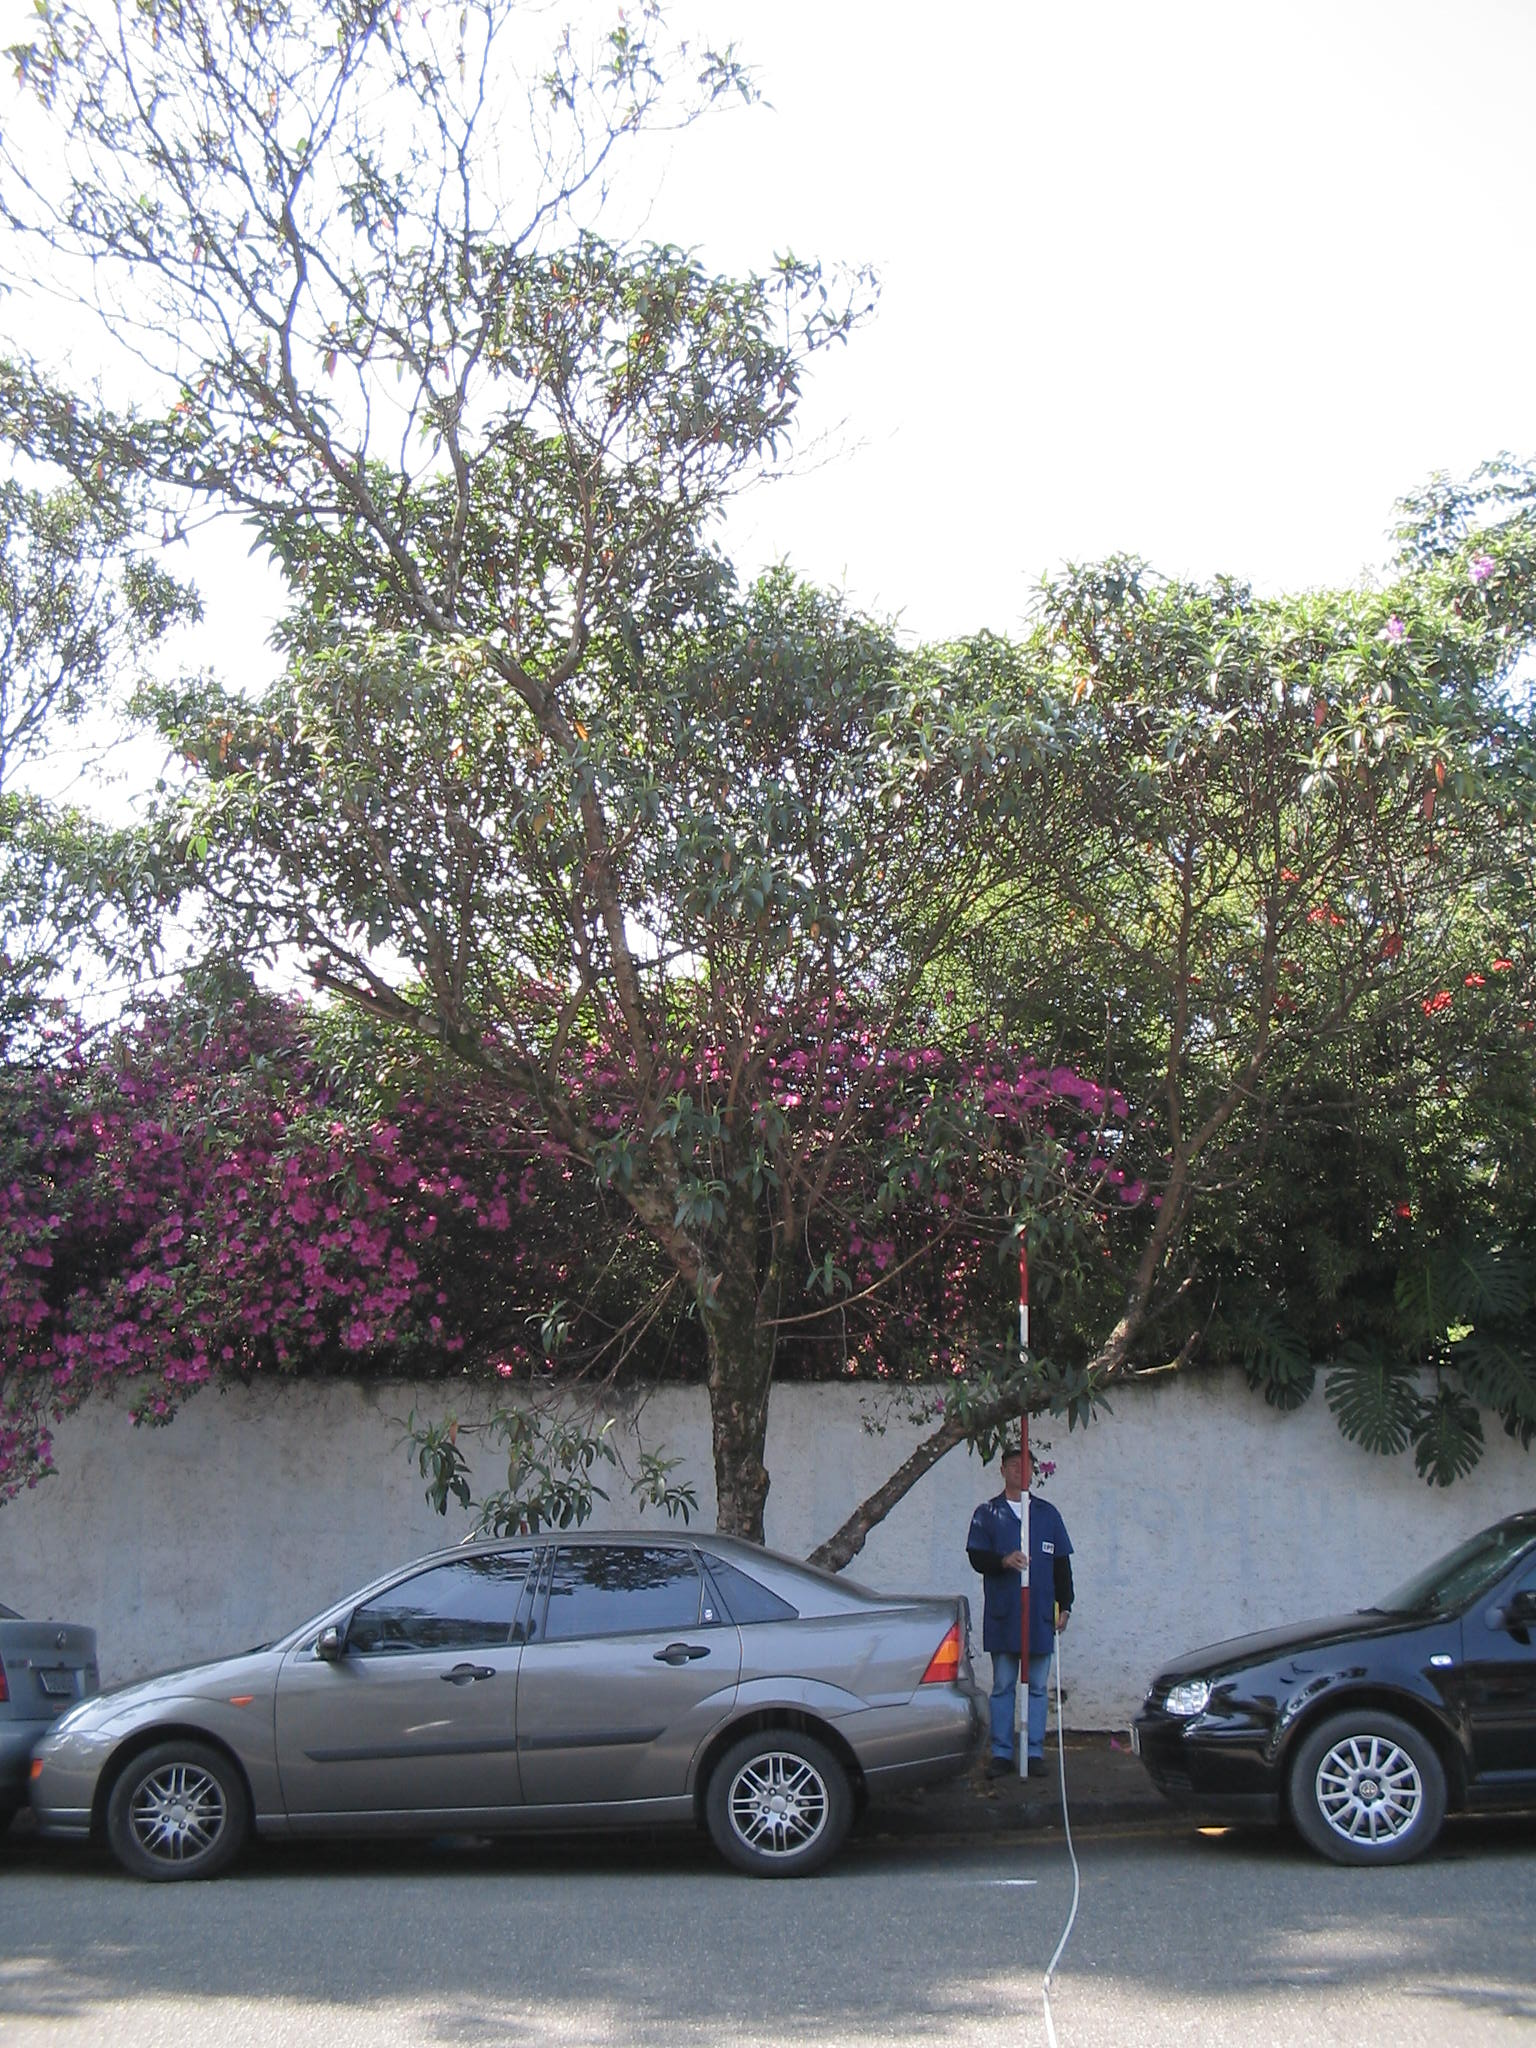crown: (8, 3, 1521, 1327)
stick: (999, 1230, 1050, 1784)
tree: (6, 2, 1526, 1793)
